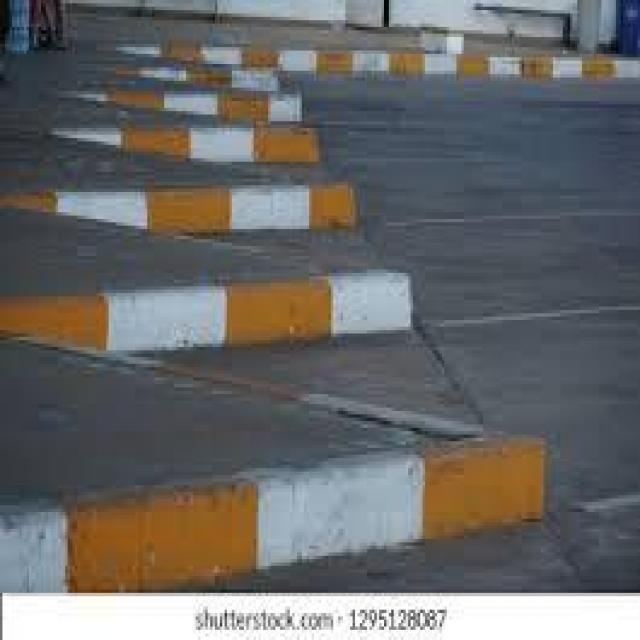bump: (43, 428, 576, 564), (22, 274, 424, 343), (202, 188, 362, 230)
